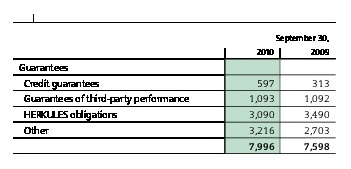table: (0, 0, 351, 169)
